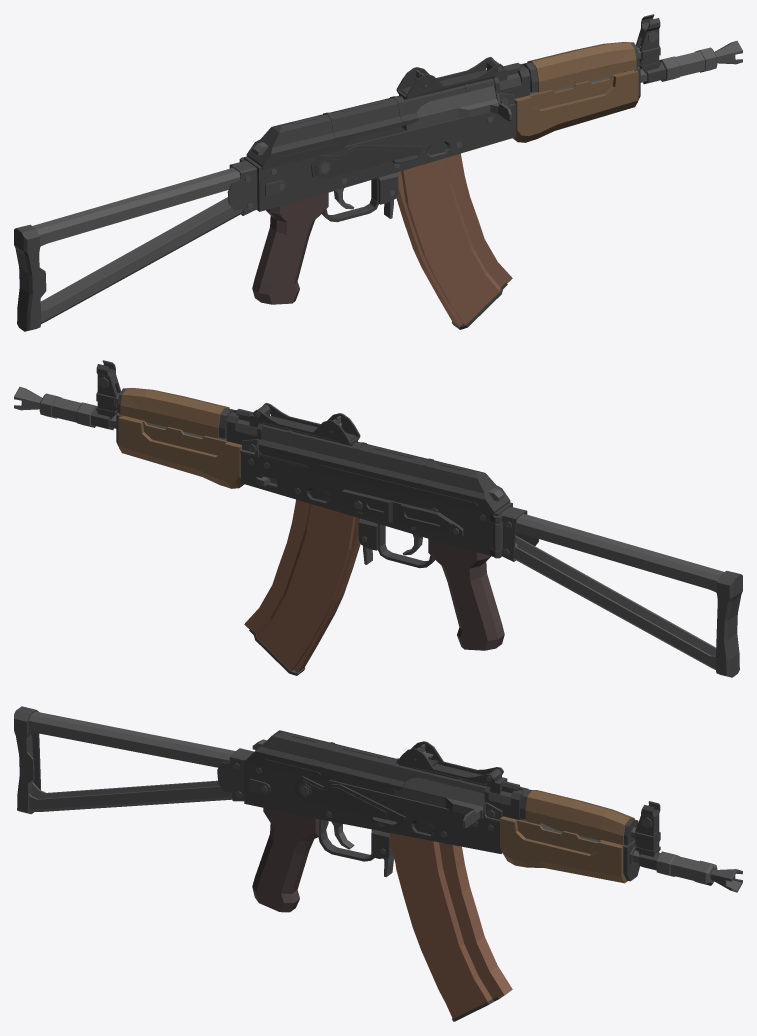
File: aks74u.glb
The picture shows the model from 3 angles, top to bottom: view 1: azimuth 30°, elevation 25°; view 2: azimuth 150°, elevation 25°; view 3: azimuth 330°, elevation 25°; orthographic projection.
Parts seen in each view (by area): view 1: body_mesh, mag_mesh, bolt_mesh, irons_mesh; view 2: body_mesh, mag_mesh, irons_mesh; view 3: body_mesh, mag_mesh, bolt_mesh, irons_mesh.
Boxes of the visible parts, x1,y1,x2,y2 form: body_mesh: (14,14,742,331); mag_mesh: (396,153,512,329); bolt_mesh: (401,86,511,130); irons_mesh: (396,67,443,98); body_mesh: (14,360,742,677); mag_mesh: (244,499,360,675); irons_mesh: (313,413,360,444); body_mesh: (14,706,742,912); mag_mesh: (390,833,512,1021); bolt_mesh: (394,777,484,828); irons_mesh: (396,741,443,771).
Bounding box in the file's own units: 0.73 × 0.2571 × 0.0608.
